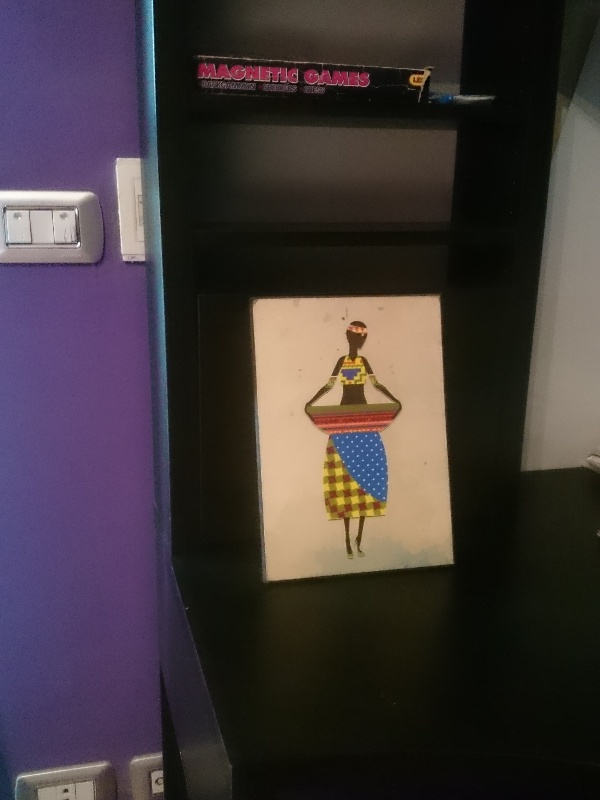my image: (253, 293, 450, 582)
